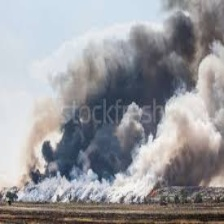smoke: (11, 1, 223, 195)
